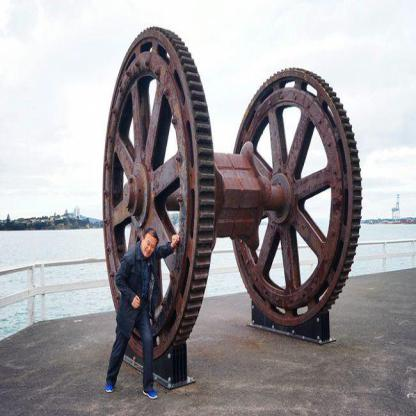FOD: (97, 22, 218, 364), (227, 63, 363, 326)
